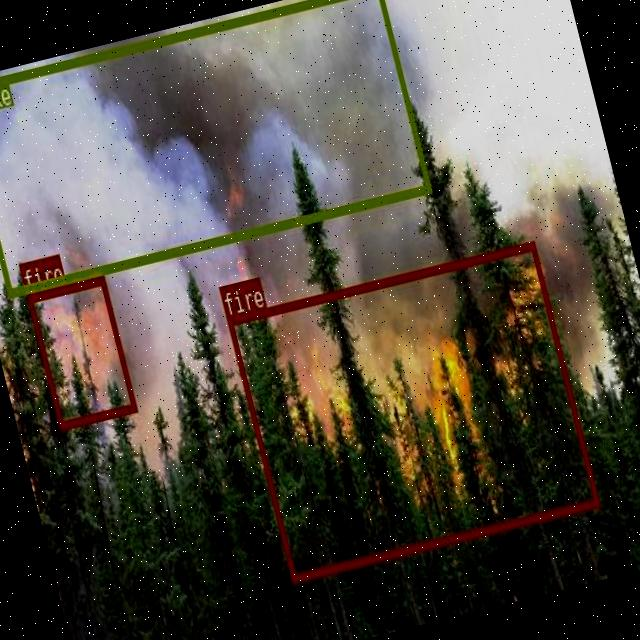fire: (224, 239, 598, 582), (25, 274, 136, 428)
smoke: (0, 0, 430, 295)
